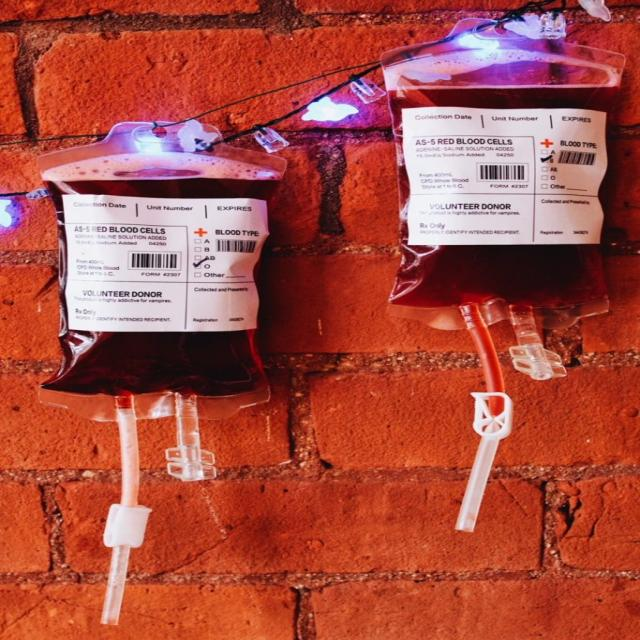B3: (31, 134, 281, 461), (351, 68, 623, 345)
